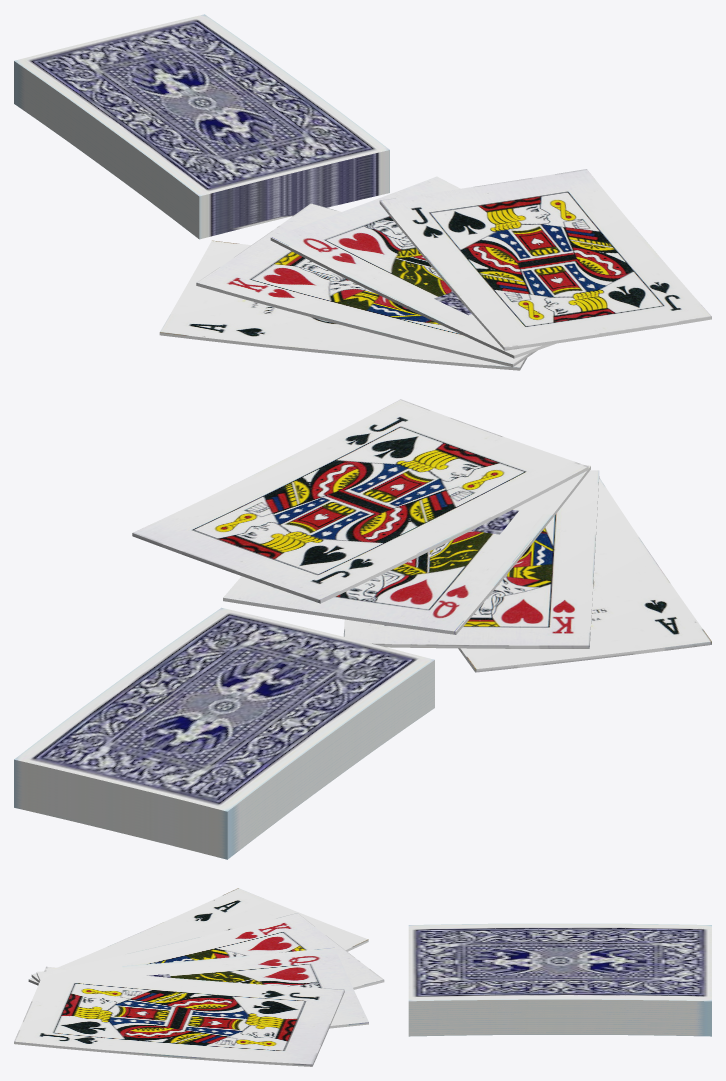
File: card_deck.glb
The picture shows the model from 3 angles, top to bottom: view 1: azimuth 30°, elevation 25°; view 2: azimuth 150°, elevation 25°; view 3: azimuth 270°, elevation 25°; orthographic projection. The views are drawn at different scales.
Visible parts, largest first — view 1: Card18, jack1, king1, queen1, ace1; view 2: Card18, jack1, queen1, king1, ace1; view 3: Card18, jack1, queen1, king1, ace1.
Part boxes in pixels (bbox=[...]): Card18: bbox=[14, 14, 389, 239]; jack1: bbox=[379, 169, 711, 350]; king1: bbox=[196, 203, 537, 367]; queen1: bbox=[270, 176, 555, 358]; ace1: bbox=[159, 240, 526, 370]; Card18: bbox=[14, 607, 434, 859]; jack1: bbox=[132, 399, 588, 603]; queen1: bbox=[223, 465, 590, 634]; king1: bbox=[343, 470, 599, 648]; ace1: bbox=[458, 477, 711, 672]; Card18: bbox=[408, 923, 711, 1036]; jack1: bbox=[14, 966, 344, 1066]; queen1: bbox=[36, 947, 368, 1028]; king1: bbox=[31, 913, 384, 989]; ace1: bbox=[28, 888, 368, 985].
Bounding box in the file's own units: 6.33 × 0.5859 × 9.9.
6 materials, 6 textured.
